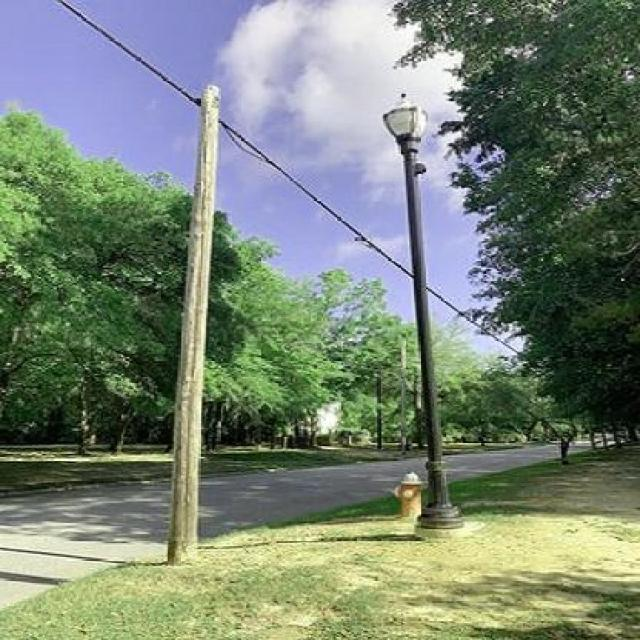pole: (143, 74, 269, 555)
